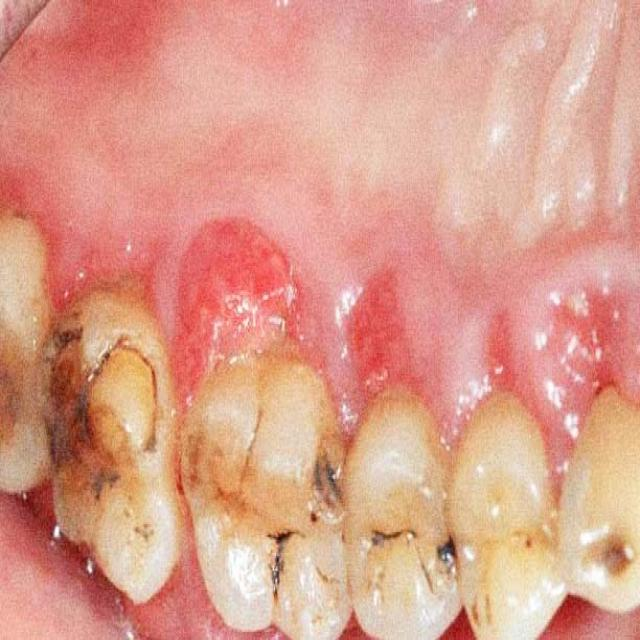caries: (34, 315, 160, 548), (177, 426, 253, 546), (360, 500, 426, 584), (0, 331, 41, 463), (304, 426, 353, 531), (254, 506, 309, 598), (579, 520, 639, 600), (498, 510, 550, 580), (424, 520, 465, 600), (464, 573, 506, 635)
